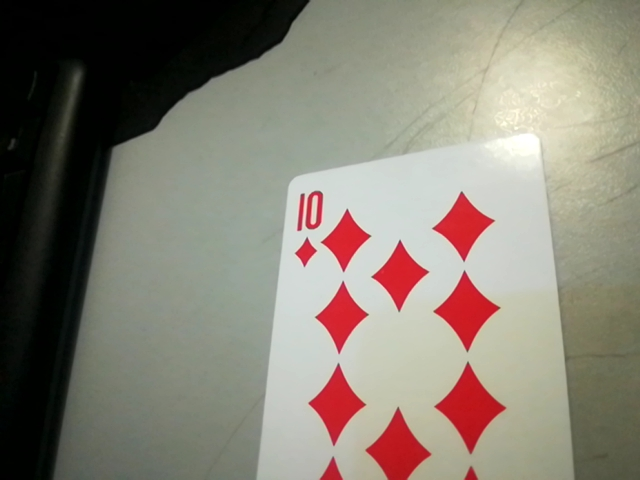fk 10: (279, 182, 330, 270)
